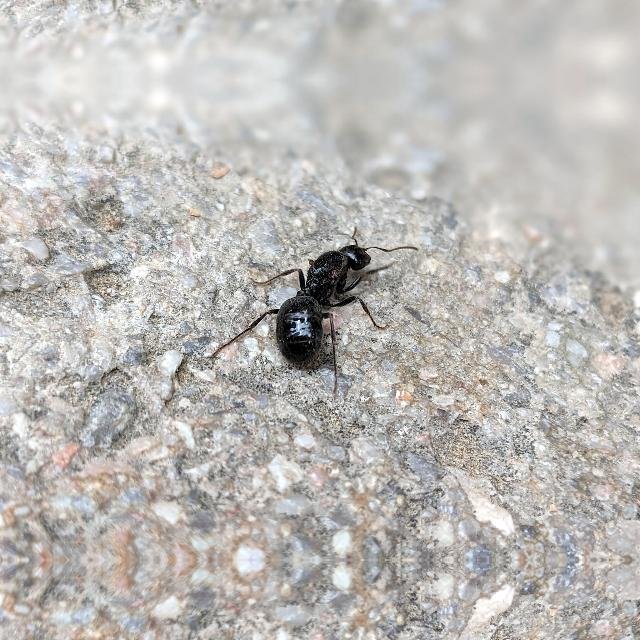Messor: (258, 232, 379, 372)
